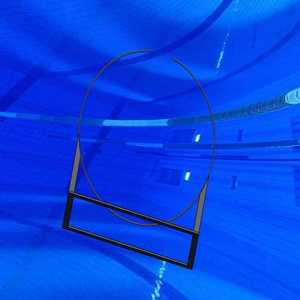circle: (62, 49, 218, 271)
